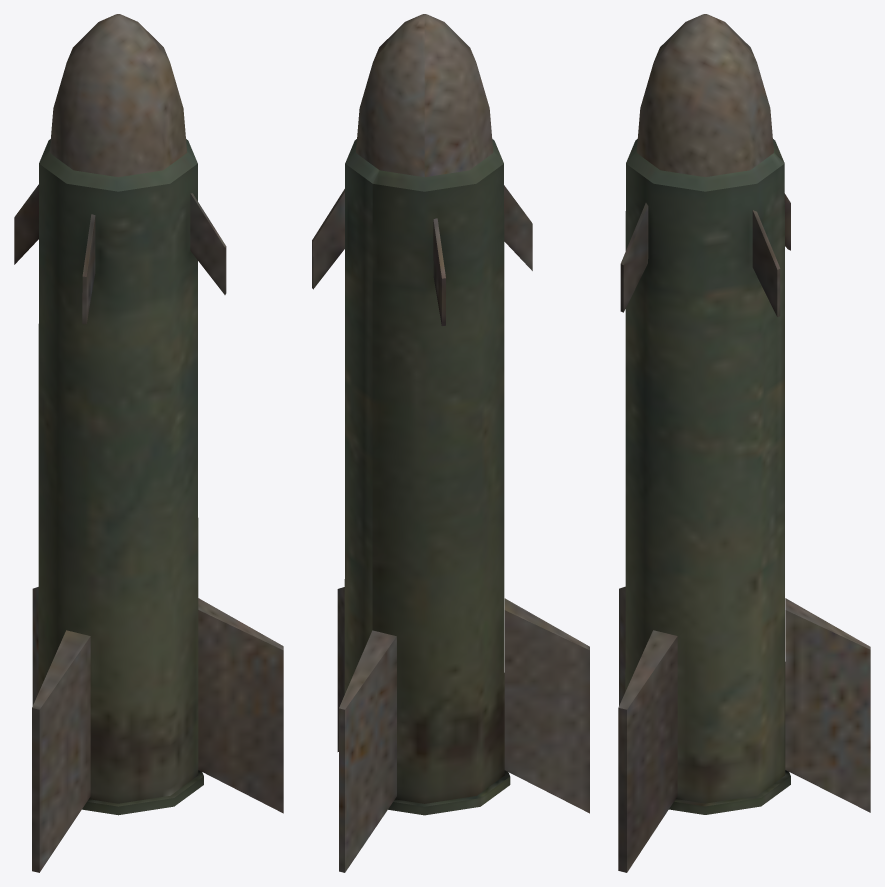
The model's file is Missile.FBX.
3 views of the same model, side by side, from view 1: azimuth 30°, elevation 25°; view 2: azimuth 150°, elevation 25°; view 3: azimuth 270°, elevation 25° (orthographic).
Parts seen in each view (by area): view 1: Missile; view 2: Missile; view 3: Missile.
Boxes of the visible parts, x1=… form: Missile: x1=14, y1=14, x2=283, y2=872; Missile: x1=312, y1=14, x2=589, y2=872; Missile: x1=618, y1=14, x2=870, y2=872.
Bounding box in the file's own units: 26.15 × 78.93 × 22.67.
